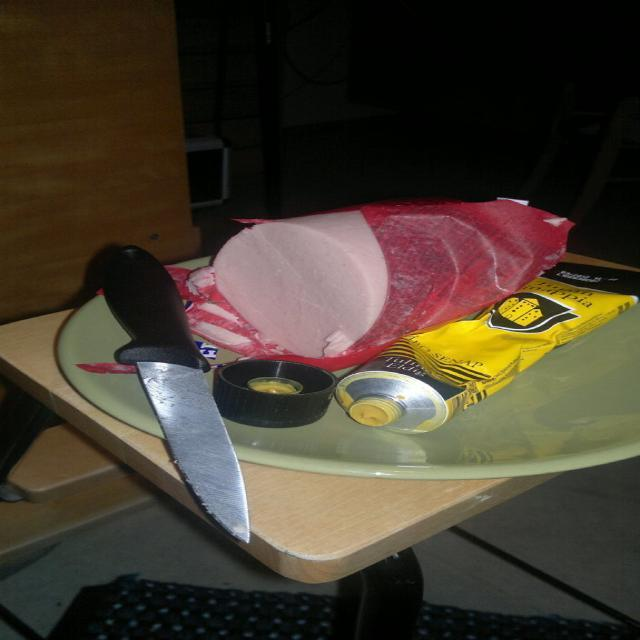Knife: (104, 245, 250, 542)
